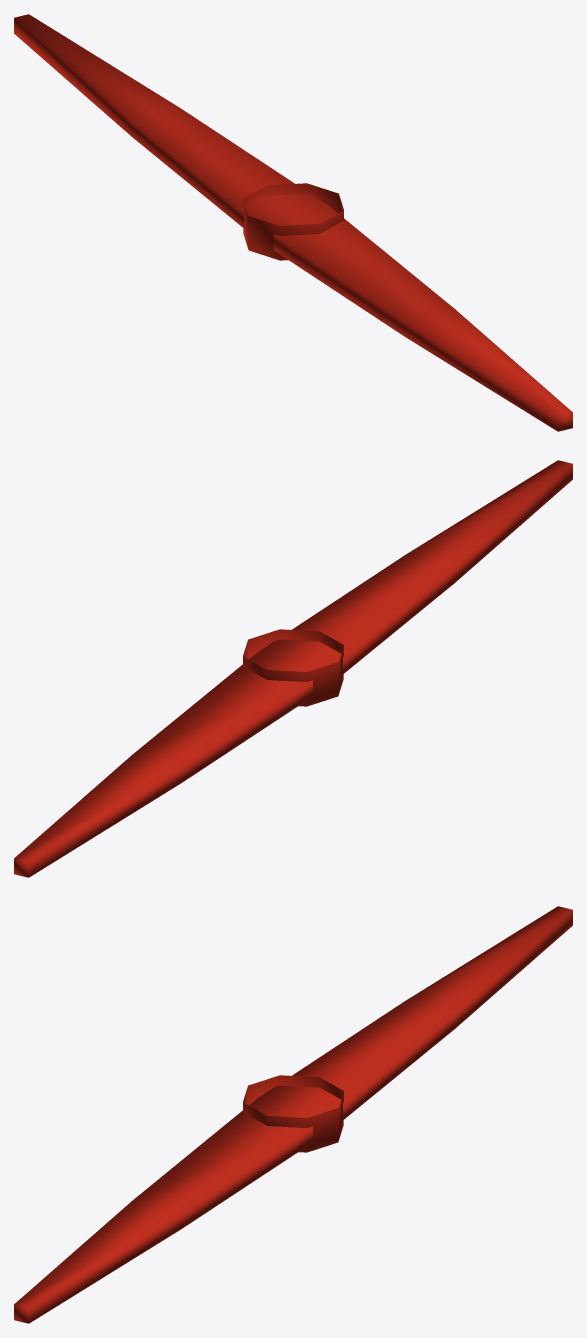
File: Point.fbx
The picture shows the model from 3 angles, top to bottom: view 1: azimuth 30°, elevation 25°; view 2: azimuth 150°, elevation 25°; view 3: azimuth 330°, elevation 25°; orthographic projection.
Visible parts, largest first — view 1: Point; view 2: Point; view 3: Point.
Part boxes in pixels (<box>): Point: <box>14,14,572,431</box>; Point: <box>14,460,572,877</box>; Point: <box>14,906,572,1323</box>.
Bounding box in the file's own units: 0.0218 × 0.00798 × 0.226.
